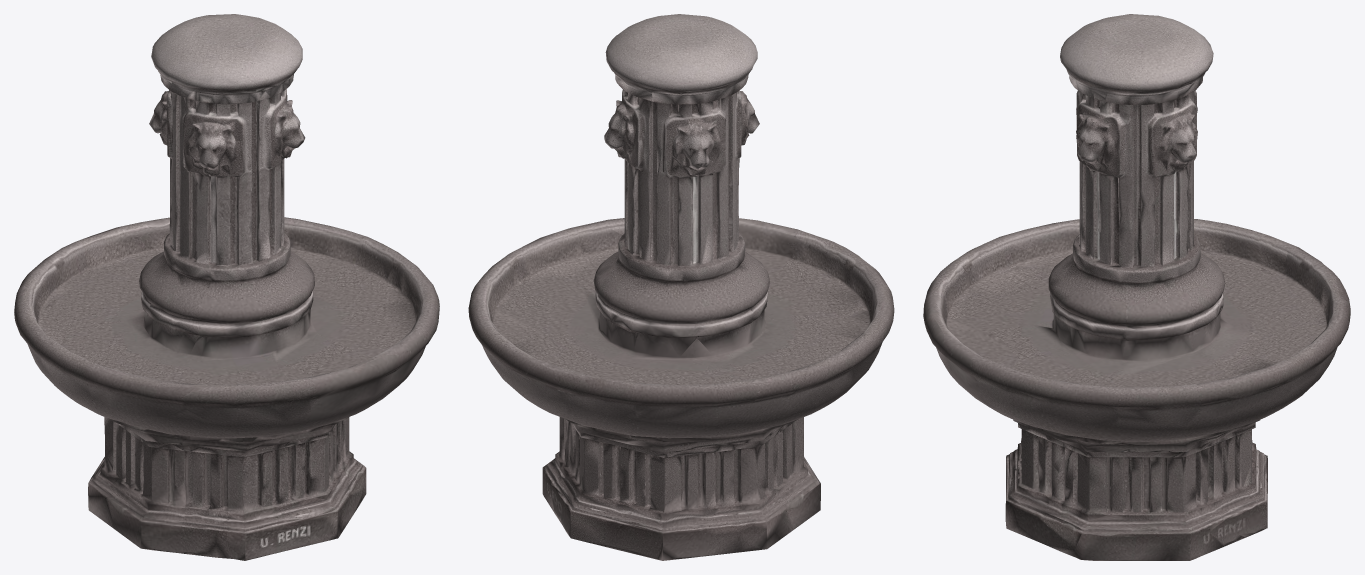
Rendered from fountain_vintage.glb.
3 views of the same model, side by side, from view 1: azimuth 30°, elevation 25°; view 2: azimuth 150°, elevation 25°; view 3: azimuth 270°, elevation 25° (orthographic).
Visible parts, largest first — view 1: fountain_vintage; view 2: fountain_vintage; view 3: fountain_vintage.
Part boxes in pixels (x1,y1,x2,y2): fountain_vintage: (14,14,439,560); fountain_vintage: (468,14,894,560); fountain_vintage: (923,14,1350,560).
Size of the model in its own units: 1.56 by 1.9 by 1.56.
Materials: 1 (1 with a texture image).
